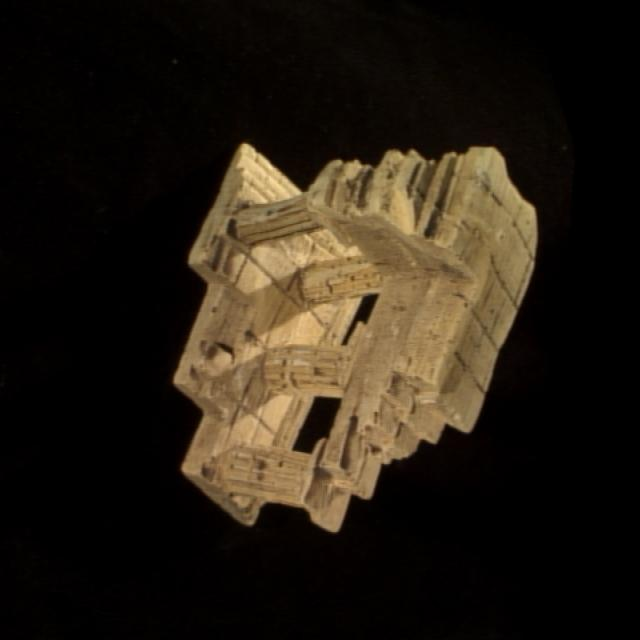Instance-Segmentation: (175, 144, 536, 531)
